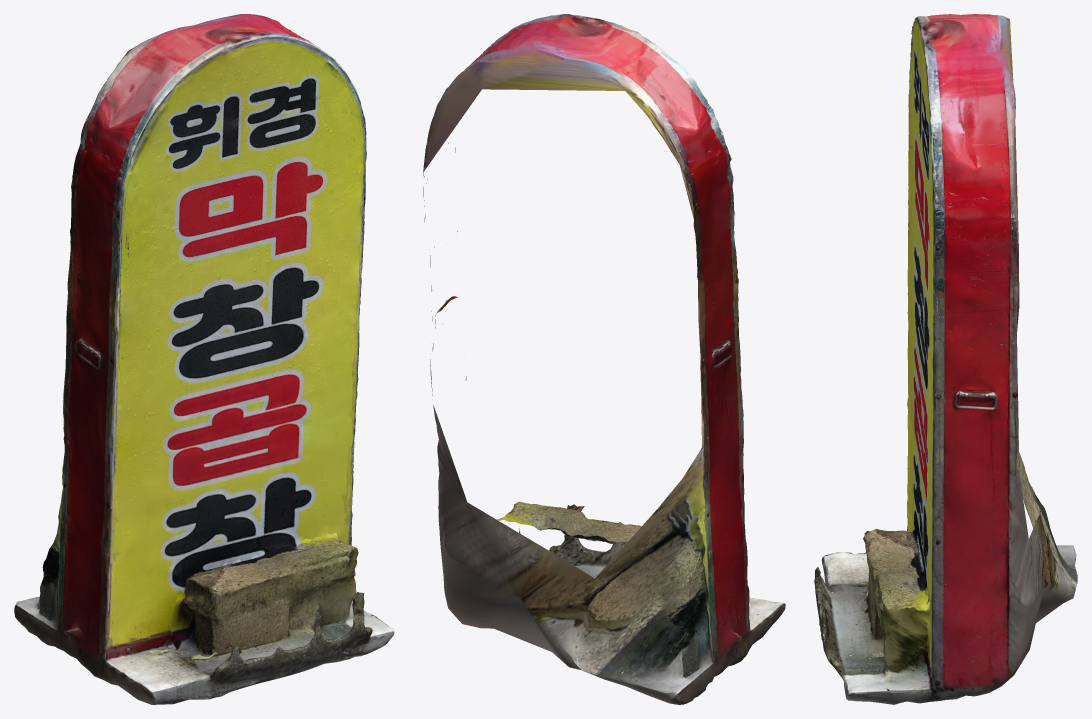
File: sign.gltf
The picture shows the model from 3 angles, left to right: view 1: azimuth 30°, elevation 25°; view 2: azimuth 150°, elevation 25°; view 3: azimuth 270°, elevation 25°; orthographic projection. The views are drawn at different scales.
Visible parts, largest first — view 1: Default; view 2: Default; view 3: Default.
Part boxes in pixels (<box>): Default: <box>14,14,394,704</box>; Default: <box>423,14,785,704</box>; Default: <box>814,14,1077,704</box>.
Size of the model in its own units: 0.00742 by 0.0149 by 0.00567.
Materials: 1 (1 with a texture image).
